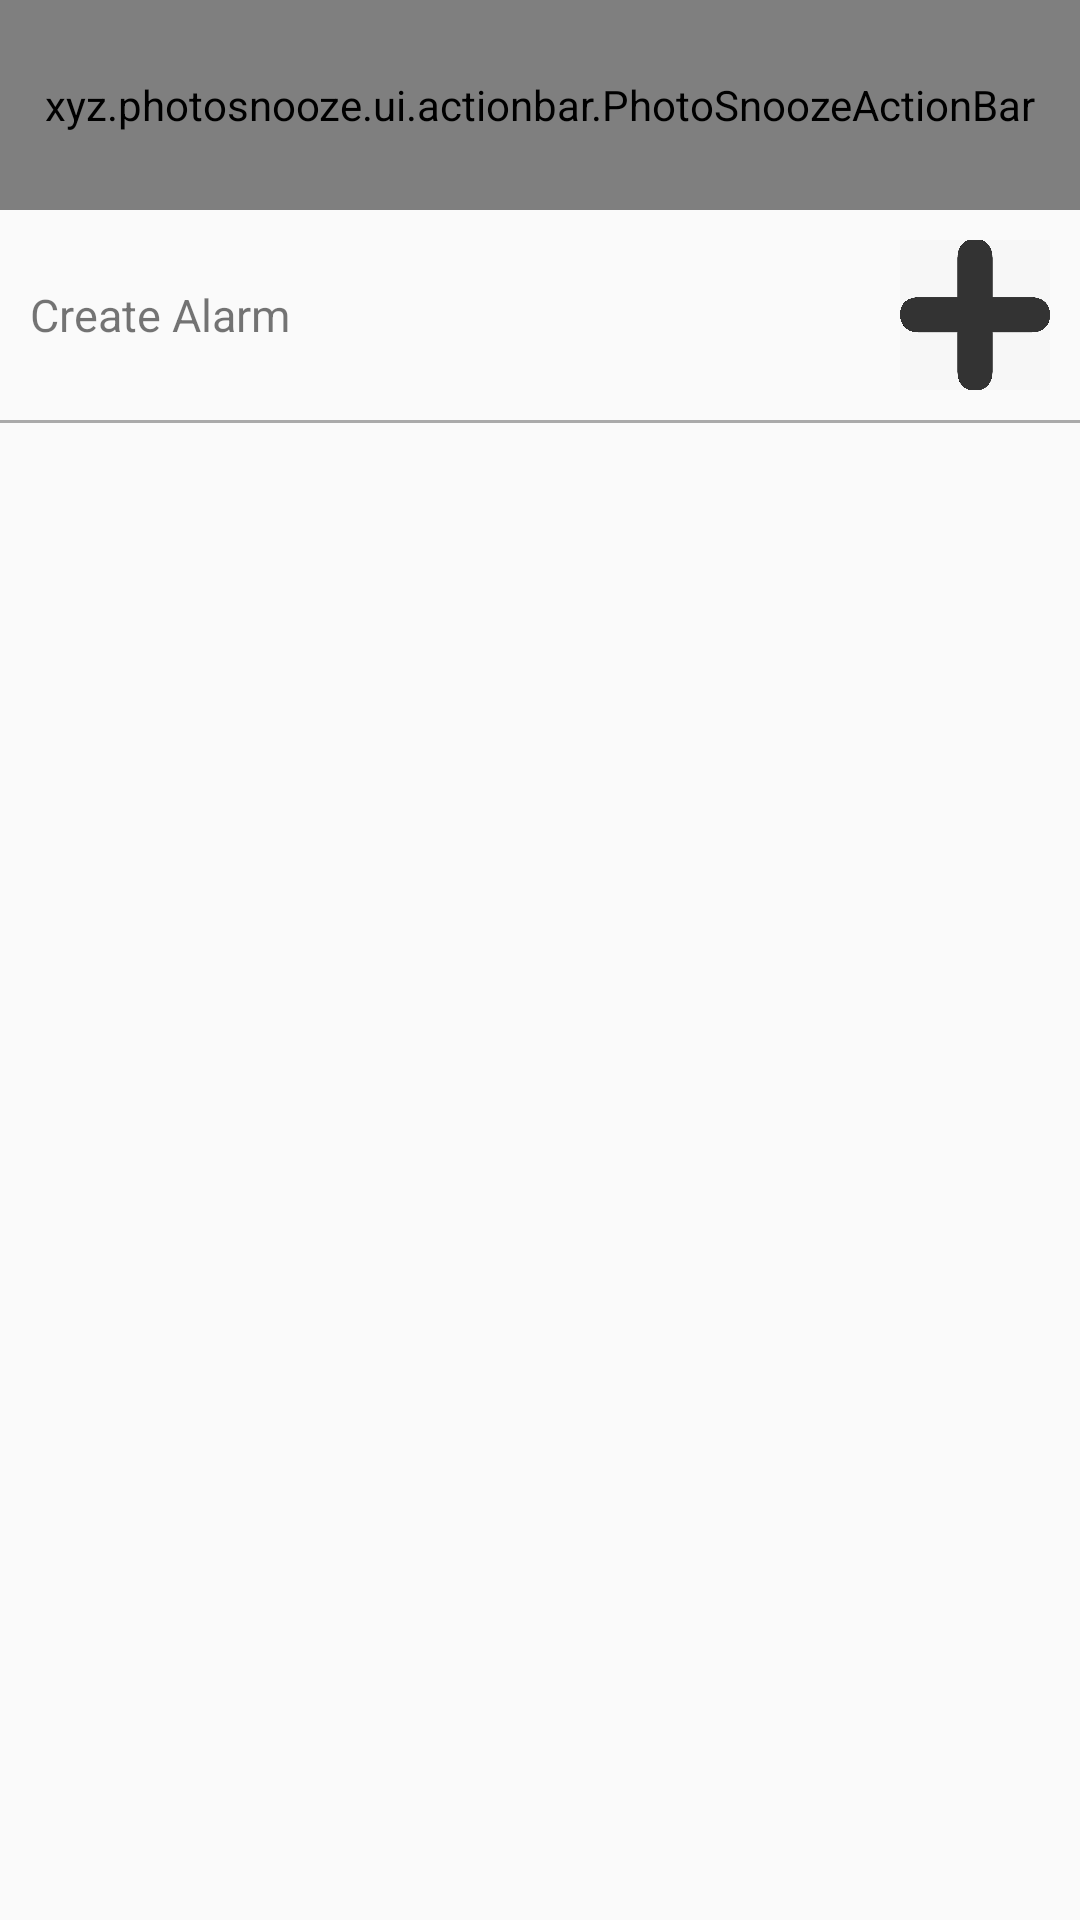

Icon bounding boxes for this 1080x1920 phone screenshot, format Rect(x1, y1, x2, y2):
create alarm: Rect(900, 240, 1050, 390)
